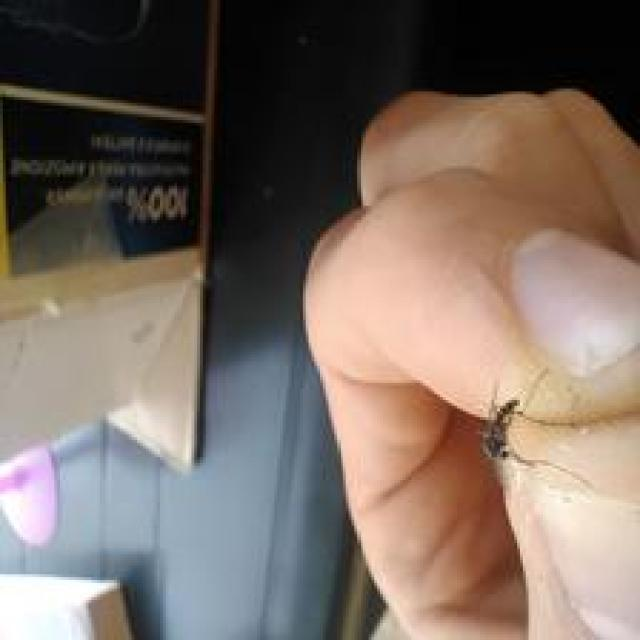Aedes albopictus: (477, 380, 594, 503)
